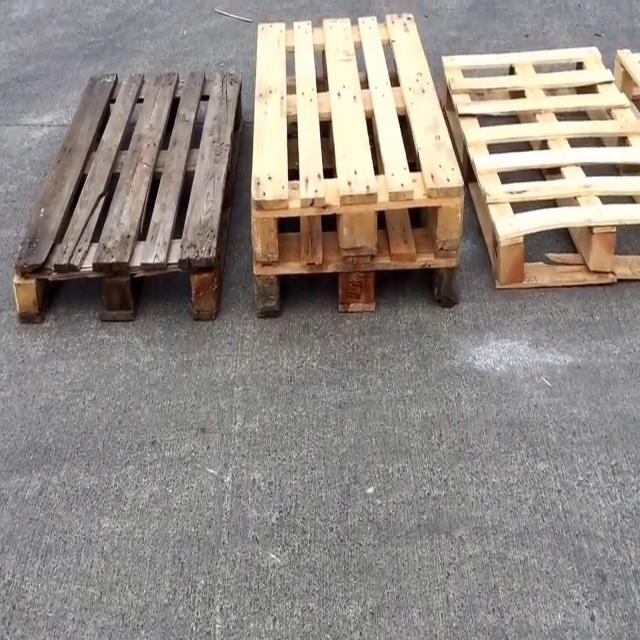Palette: (249, 10, 467, 320), (7, 64, 245, 327), (440, 41, 640, 295), (611, 38, 640, 124)
